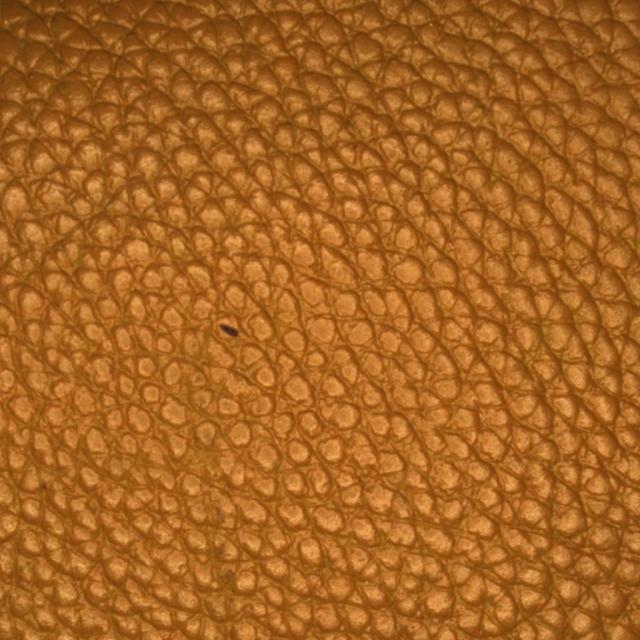pinhole: (148, 258, 319, 406)
